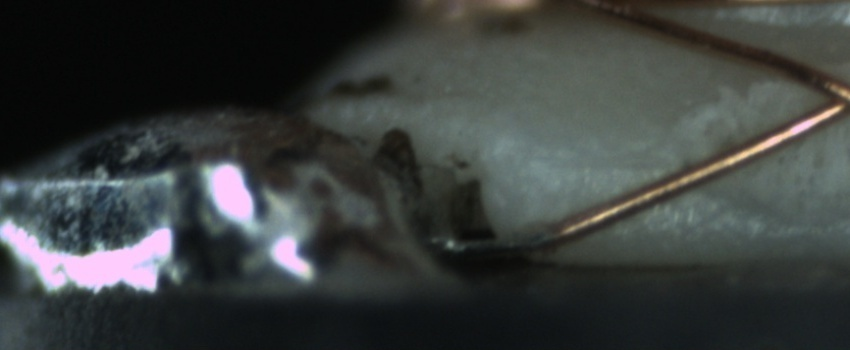CL: (798, 63, 850, 134)
DL: (535, 132, 686, 196)
